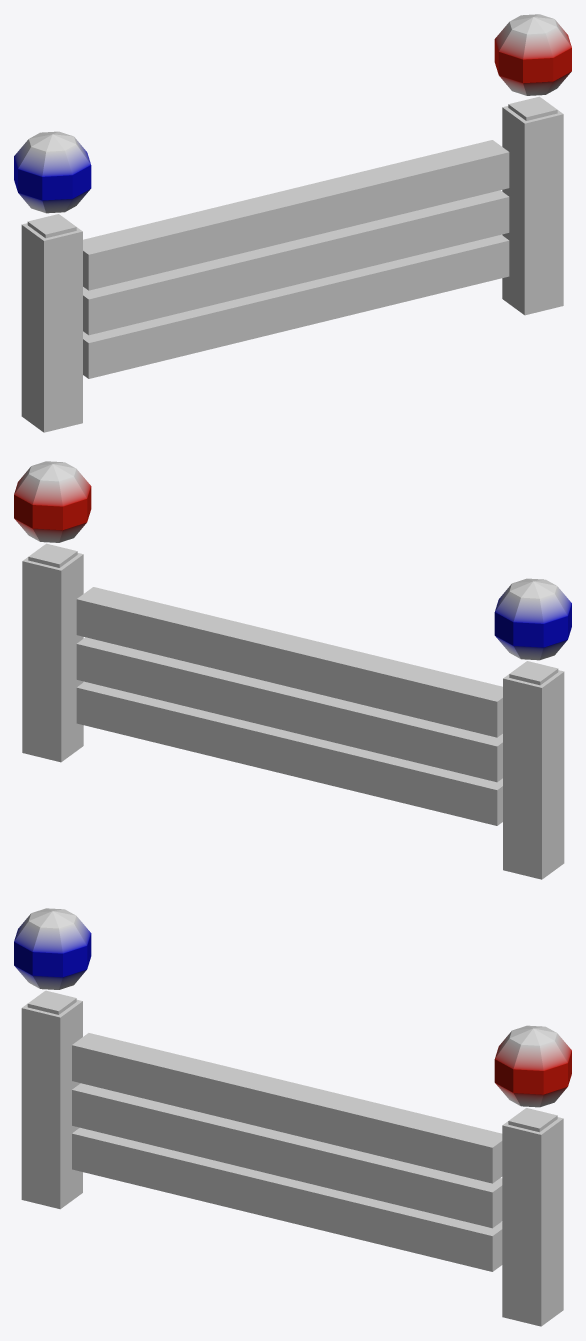
The model's file is Barrier.fbx.
The picture shows the model from 3 angles, top to bottom: view 1: azimuth 30°, elevation 25°; view 2: azimuth 150°, elevation 25°; view 3: azimuth 330°, elevation 25°; orthographic projection.
Visible parts, largest first — view 1: pCube6, pCube4, pCube5, pCube1, pCube2, pSphere1, pSphere2; view 2: pCube6, pCube4, pCube5, pCube1, pCube2, pSphere1, pSphere2; view 3: pCube6, pCube4, pCube5, pCube2, pCube1, pSphere2, pSphere1.
Boxes of the visible parts, left/top/right/bottom form: pCube6: left=83, top=140, right=509, bottom=290; pCube4: left=83, top=190, right=509, bottom=335; pCube5: left=83, top=234, right=509, bottom=378; pCube1: left=21, top=214, right=82, bottom=432; pCube2: left=502, top=96, right=563, bottom=315; pSphere1: left=14, top=131, right=91, bottom=213; pSphere2: left=494, top=14, right=571, bottom=95; pCube6: left=76, top=587, right=502, bottom=737; pCube4: left=76, top=637, right=502, bottom=782; pCube5: left=76, top=681, right=502, bottom=825; pCube1: left=503, top=661, right=564, bottom=879; pCube2: left=22, top=543, right=83, bottom=762; pSphere1: left=494, top=578, right=571, bottom=660; pSphere2: left=14, top=461, right=91, bottom=542; pCube6: left=72, top=1033, right=502, bottom=1183; pCube4: left=72, top=1083, right=502, bottom=1228; pCube5: left=72, top=1127, right=502, bottom=1271; pCube2: left=502, top=1108, right=563, bottom=1326; pCube1: left=21, top=990, right=82, bottom=1209; pSphere2: left=494, top=1025, right=571, bottom=1107; pSphere1: left=14, top=908, right=91, bottom=989.
Size of the model in its own units: 0.0766 by 0.0382 by 0.00965.
